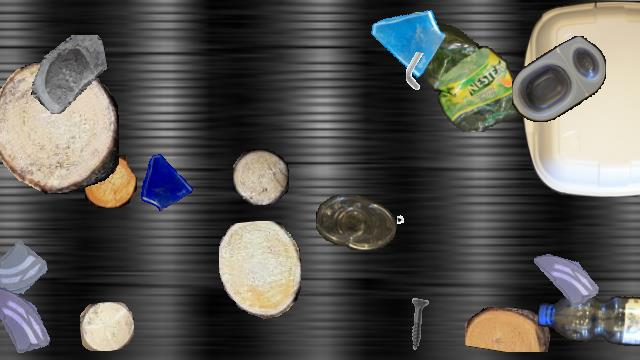glass: (367, 1, 445, 79), (29, 35, 107, 113), (534, 248, 598, 312), (0, 285, 54, 359), (135, 151, 195, 211), (0, 238, 47, 310)
metal: (390, 297, 446, 353), (396, 52, 436, 92), (397, 206, 435, 244), (629, 41, 640, 101)
plastic: (522, 1, 640, 197), (392, 12, 522, 132), (512, 36, 606, 122), (538, 292, 640, 346), (316, 195, 396, 249)
wood: (0, 61, 119, 193), (219, 221, 301, 319), (465, 307, 551, 351), (233, 149, 289, 205), (84, 155, 136, 207), (80, 302, 134, 350)
